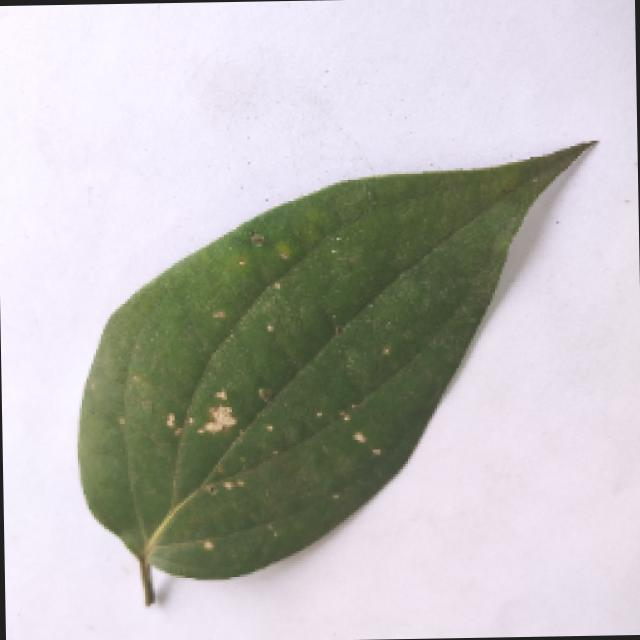pollu-disease: (75, 150, 620, 609)
